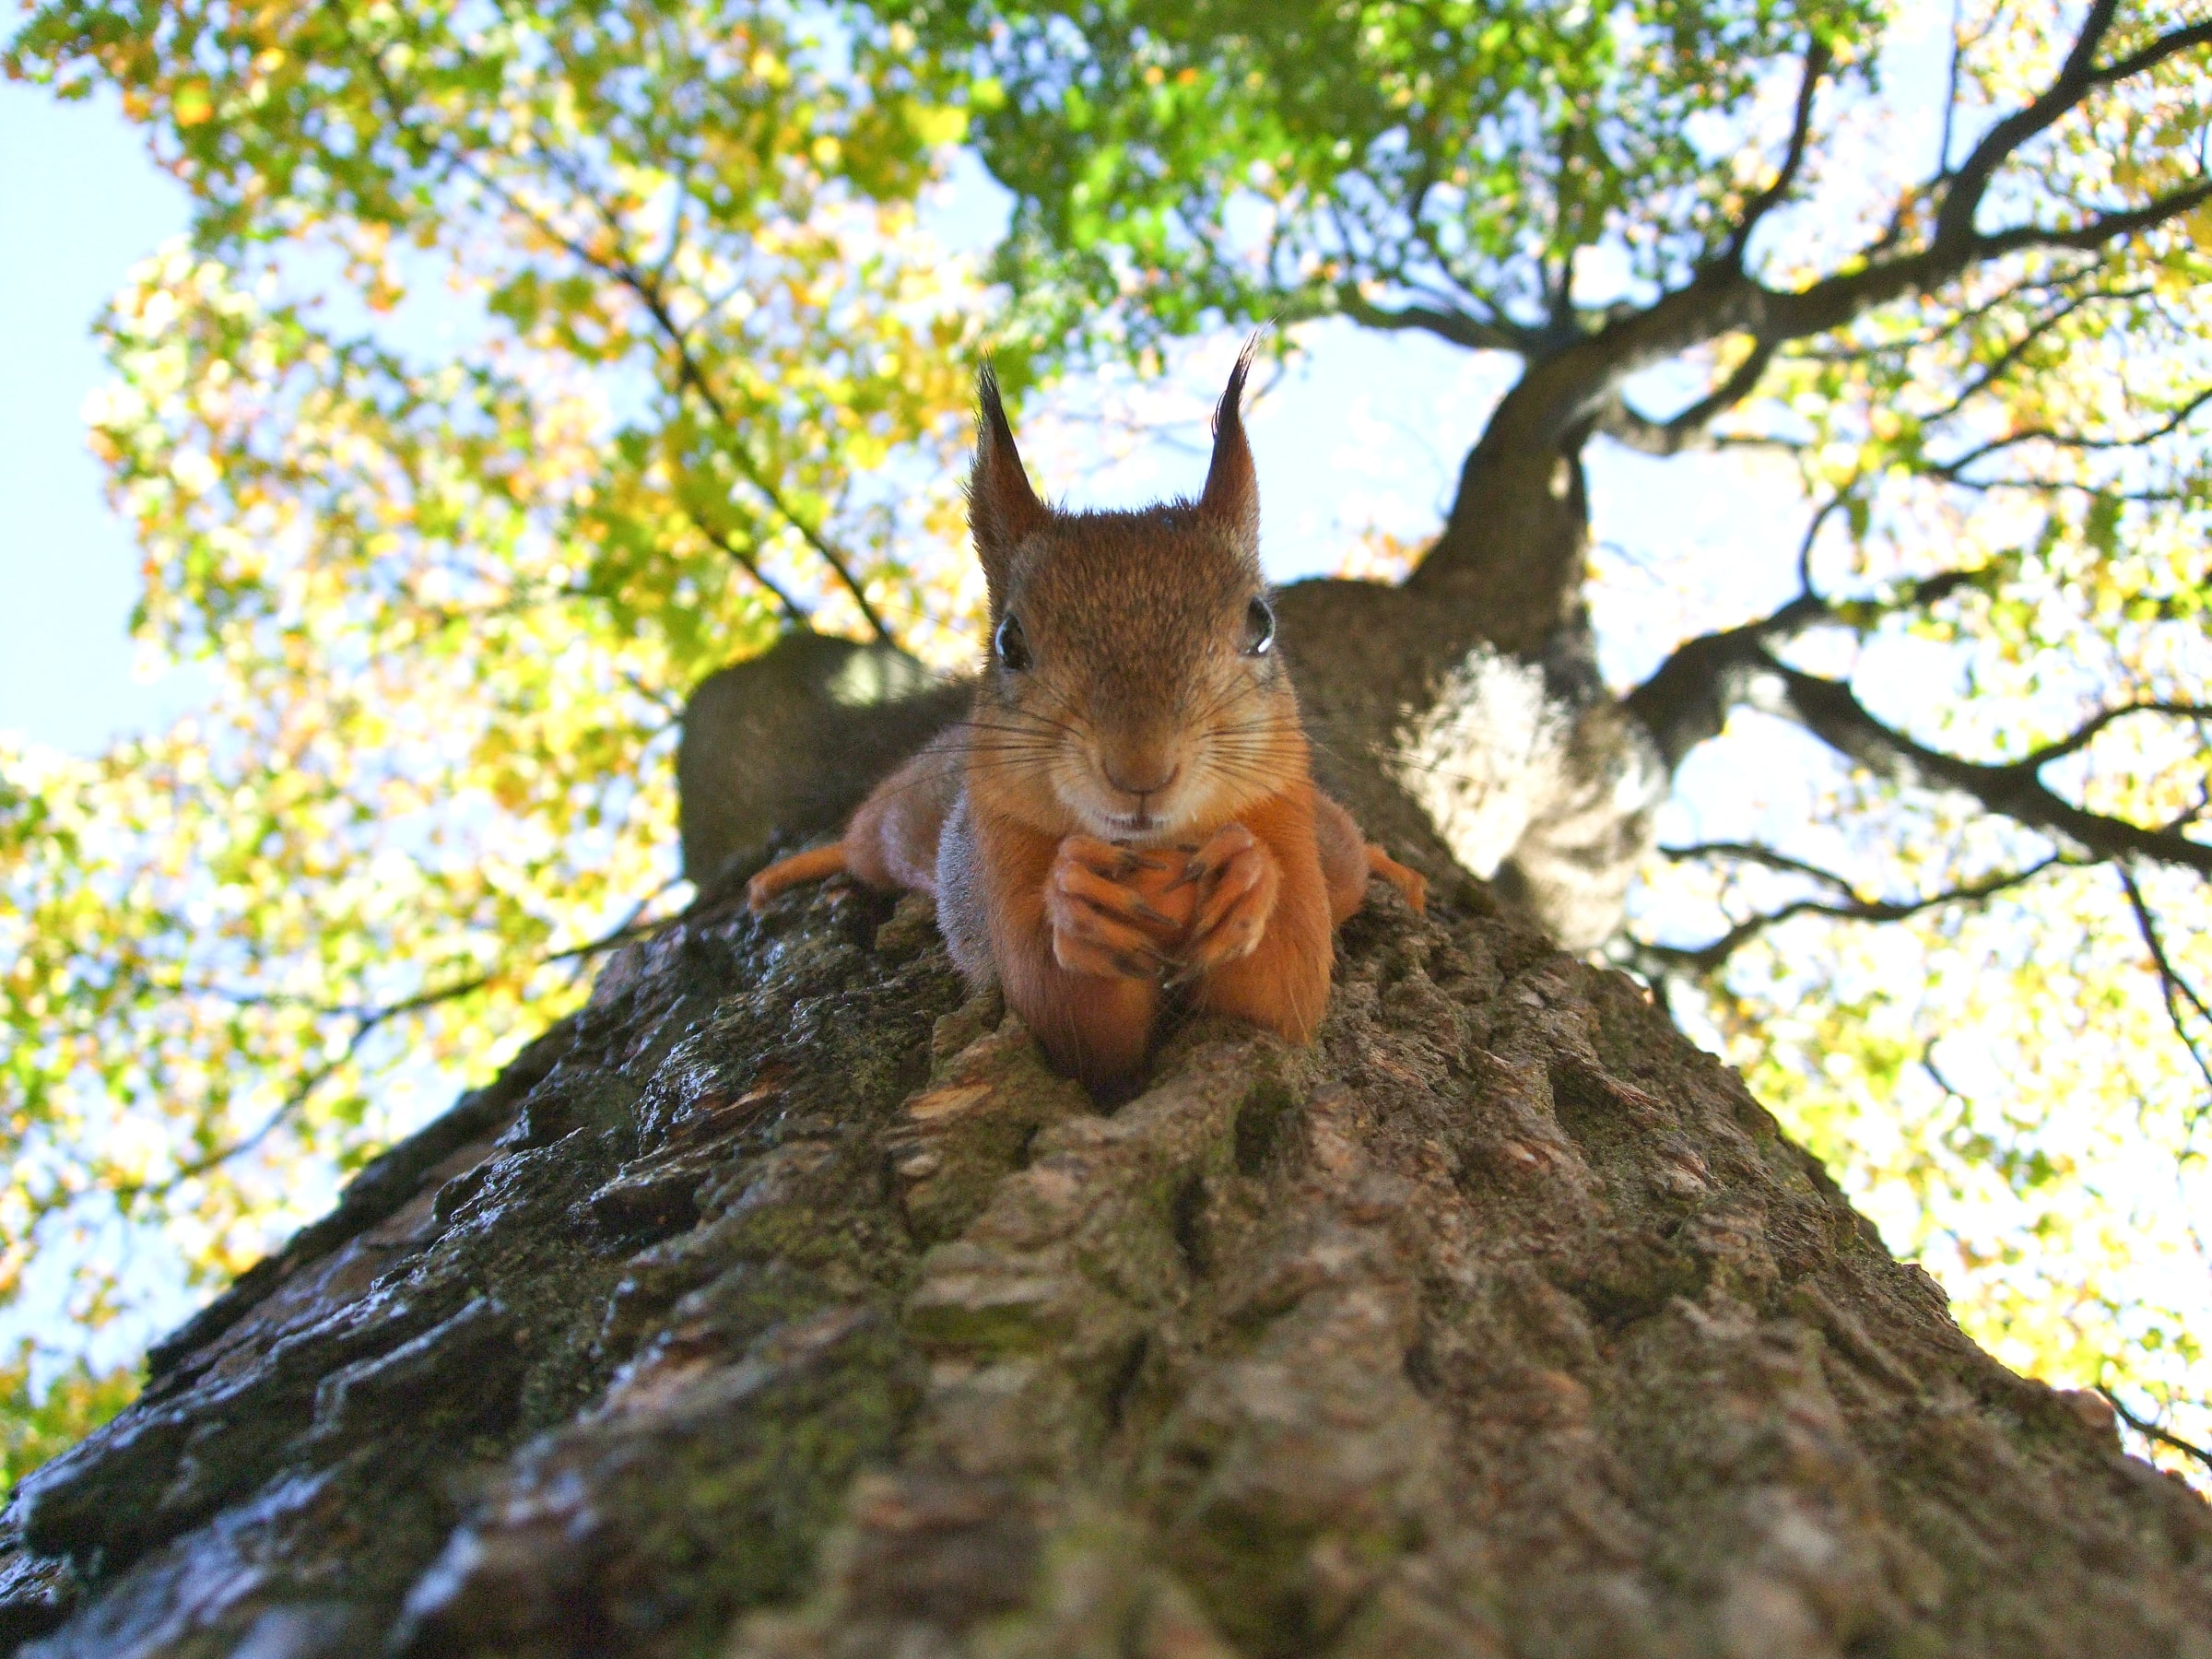squirrel: (864, 343, 1418, 1093)
